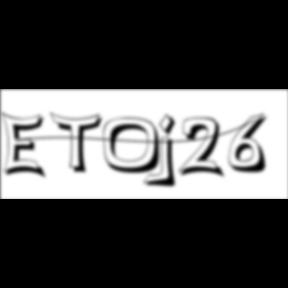2: (179, 117, 229, 181)
6: (228, 112, 274, 176)
E: (1, 110, 50, 182)
O: (104, 117, 168, 176)
T: (50, 112, 108, 176)
j: (156, 113, 182, 191)
